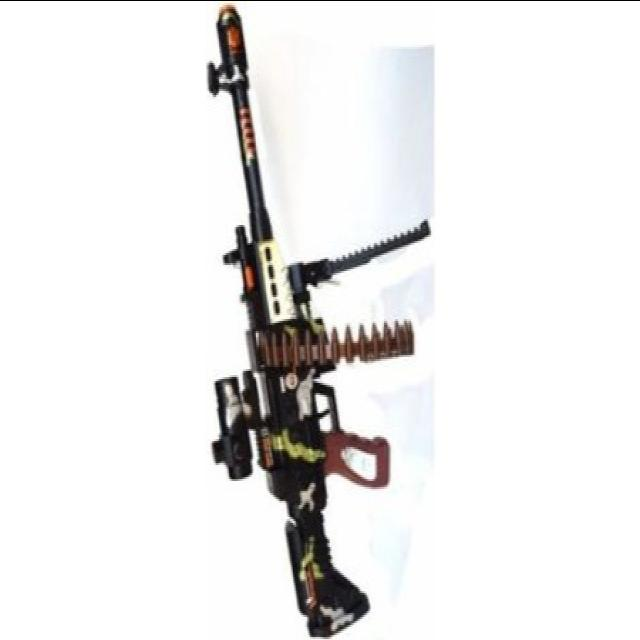rifle: (175, 3, 431, 639)
